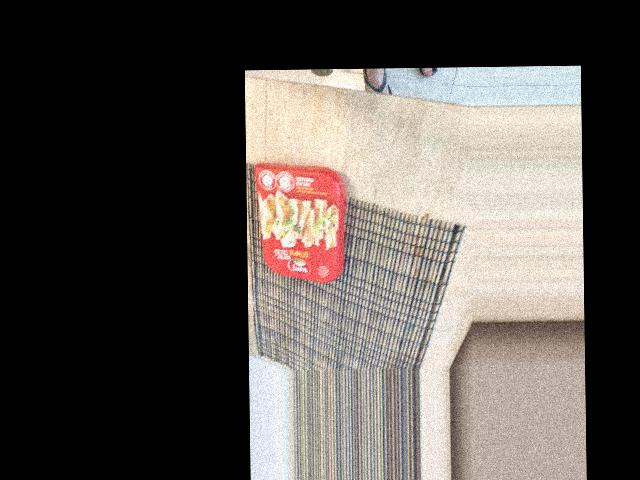cheese: (338, 145, 461, 240)
